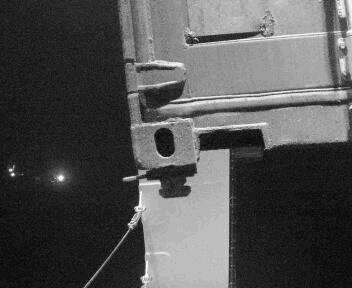twist_lock_1: (165, 159, 228, 206)
